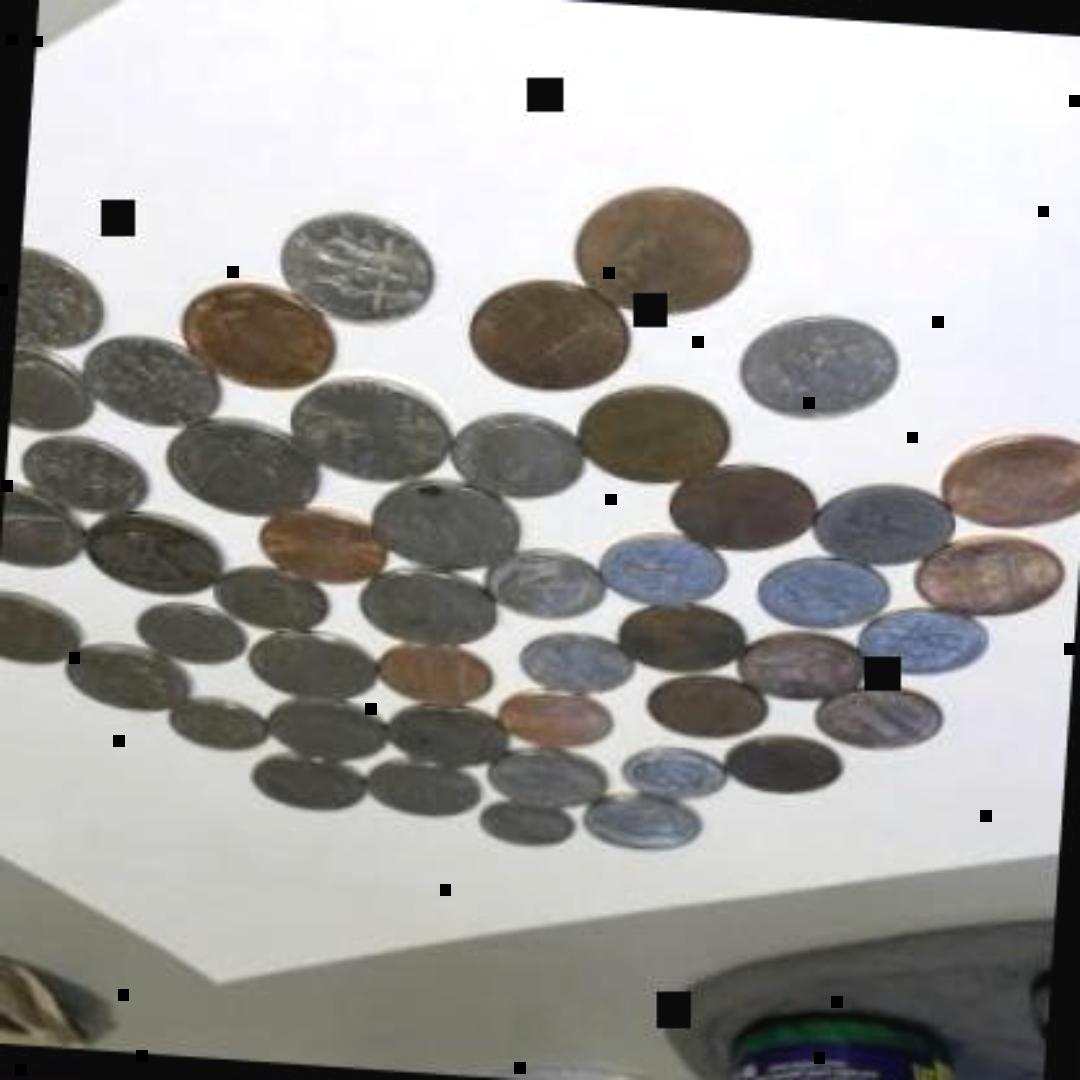Dime: (728, 312, 918, 430), (273, 206, 441, 334), (84, 332, 232, 442), (805, 473, 955, 571), (452, 408, 592, 512), (14, 434, 160, 522), (856, 602, 996, 686), (758, 552, 894, 638), (598, 532, 734, 616), (12, 242, 108, 358), (480, 551, 612, 631), (211, 561, 335, 641), (7, 347, 97, 445), (125, 600, 249, 670), (517, 627, 633, 699), (620, 744, 730, 808), (160, 695, 270, 759), (480, 798, 580, 856)
Nickel: (286, 377, 464, 493), (166, 413, 320, 527), (368, 476, 526, 579), (83, 508, 223, 606), (361, 565, 501, 658), (58, 638, 194, 722), (246, 626, 380, 706), (252, 696, 390, 768), (382, 704, 516, 776), (248, 748, 372, 820), (0, 475, 88, 573), (487, 748, 616, 812), (580, 796, 708, 860), (365, 759, 481, 823), (0, 584, 78, 668)
Penny: (562, 176, 768, 329), (180, 272, 340, 396), (462, 278, 630, 394), (574, 382, 734, 491), (932, 426, 1080, 542), (904, 531, 1076, 629), (658, 462, 816, 564), (608, 597, 748, 685), (259, 510, 391, 590), (734, 628, 870, 704), (821, 678, 945, 758), (368, 642, 500, 714), (645, 672, 769, 748), (494, 682, 618, 754), (727, 738, 841, 802)
